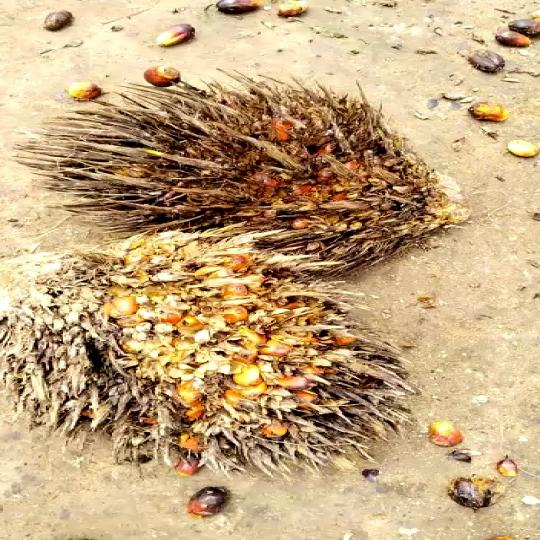terlalu masak: (0, 234, 447, 455), (41, 90, 450, 270)
